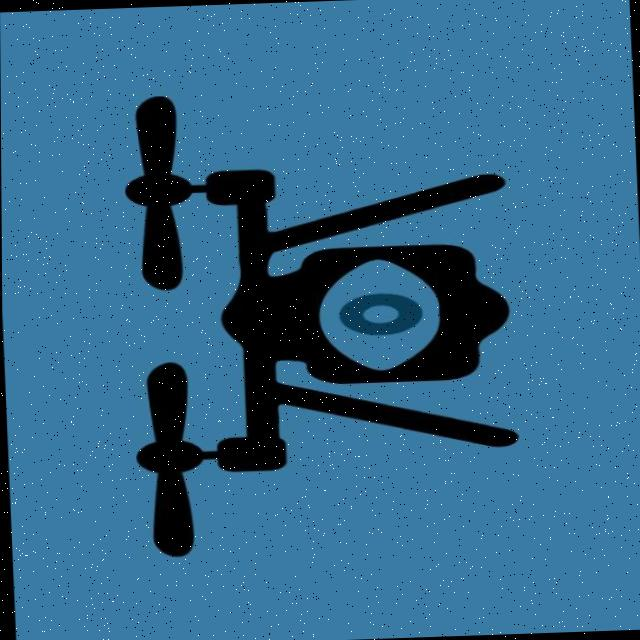drones: (68, 62, 562, 577)
